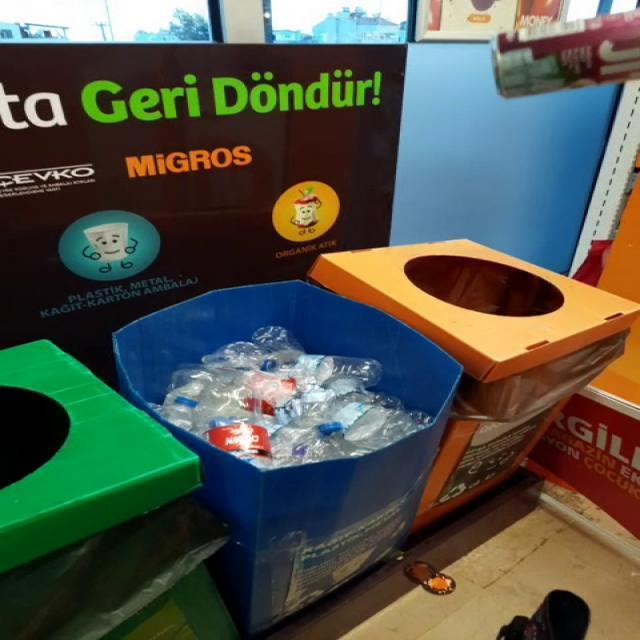Bin: (312, 241, 639, 425), (311, 240, 640, 384), (148, 326, 435, 471), (283, 532, 381, 615)
Metal: (496, 10, 640, 97)
